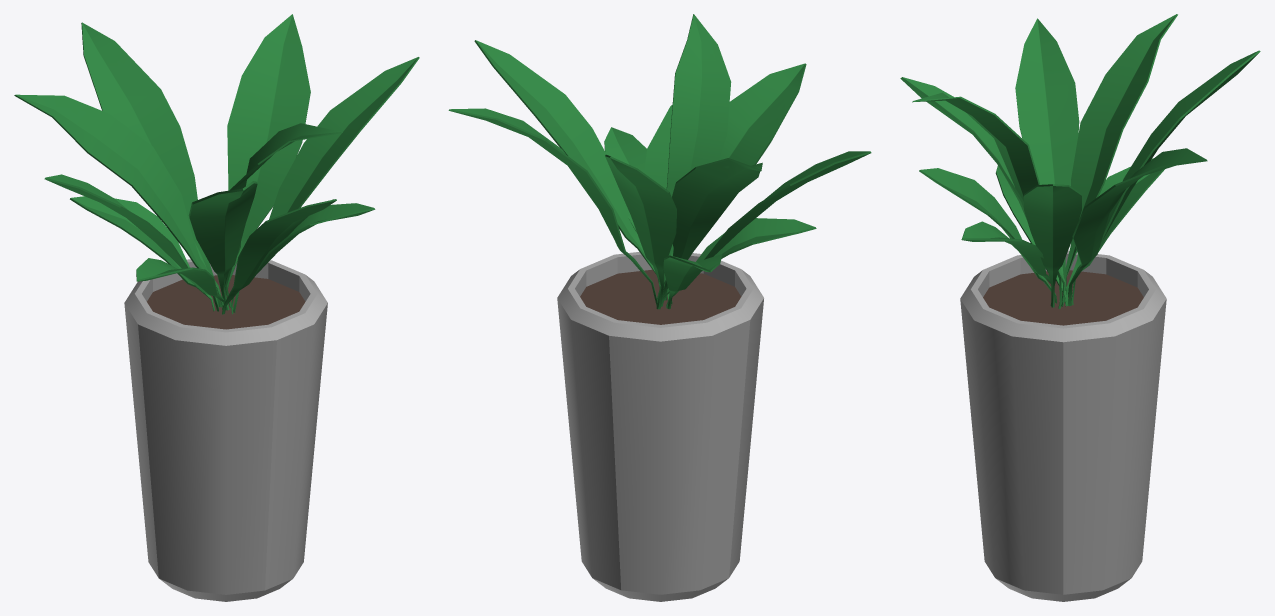
Rendered from plante.fbx.
3 renders of one model, left to right at view 1: azimuth 30°, elevation 25°; view 2: azimuth 150°, elevation 25°; view 3: azimuth 270°, elevation 25°, orthographic.
Parts seen in each view (by area): view 1: plante; view 2: plante; view 3: plante.
Boxes of the visible parts, x1=… form: plante: x1=14, y1=14, x2=419, y2=601; plante: x1=448, y1=14, x2=871, y2=601; plante: x1=900, y1=14, x2=1260, y2=601.
Bounding box in the file's own units: 2.57 × 3.17 × 2.06.
